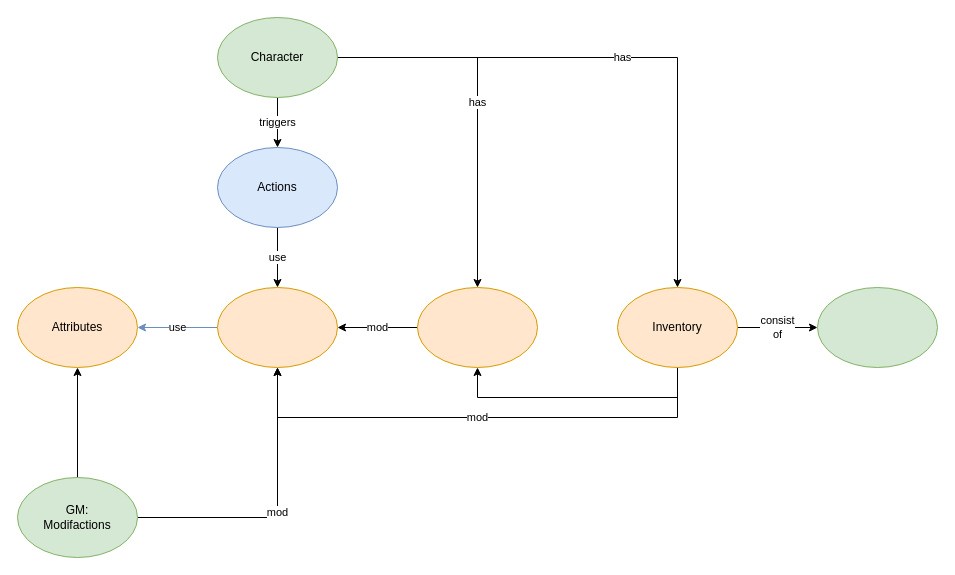
Image size: 955x575. Some labels were removed from this diagram. Here are the shapes that lost their labels. From the top down, the centre of each, then its label:
At [277,327]: "Skills".
At [477,327]: "BodyStats".
At [877,327]: "Items".
